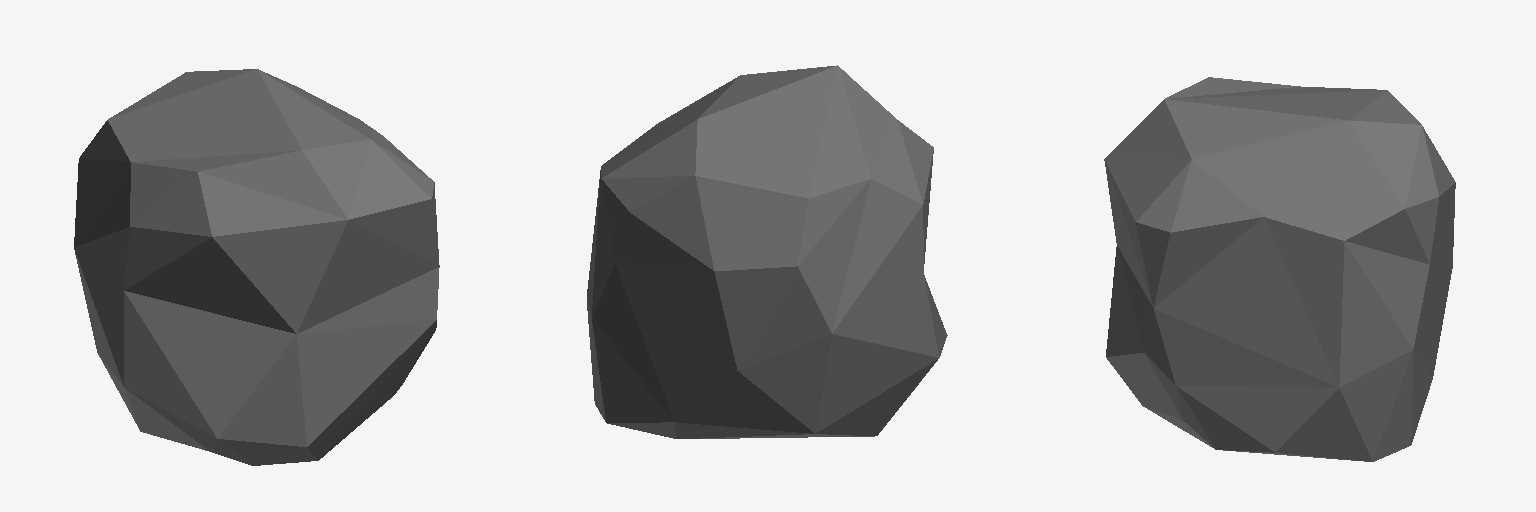
3 renders of one model, left to right at view 1: azimuth 30°, elevation 25°; view 2: azimuth 150°, elevation 25°; view 3: azimuth 270°, elevation 25°, orthographic.
Visible parts, largest first — view 1: Cube; view 2: Cube; view 3: Cube.
Part boxes in pixels (x1,y1,x2,y2): Cube: (74, 69, 439, 465); Cube: (587, 65, 947, 438); Cube: (1104, 77, 1455, 461).
Size of the model in its own units: 2.02 by 1.95 by 2.03.
1 materials, 1 textured.